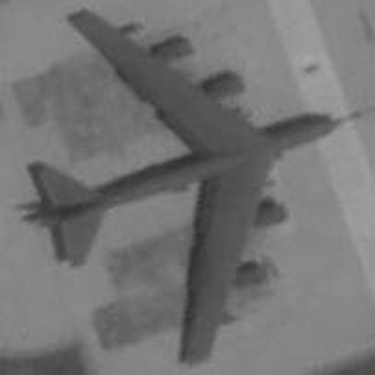airplane: (16, 4, 353, 370)
